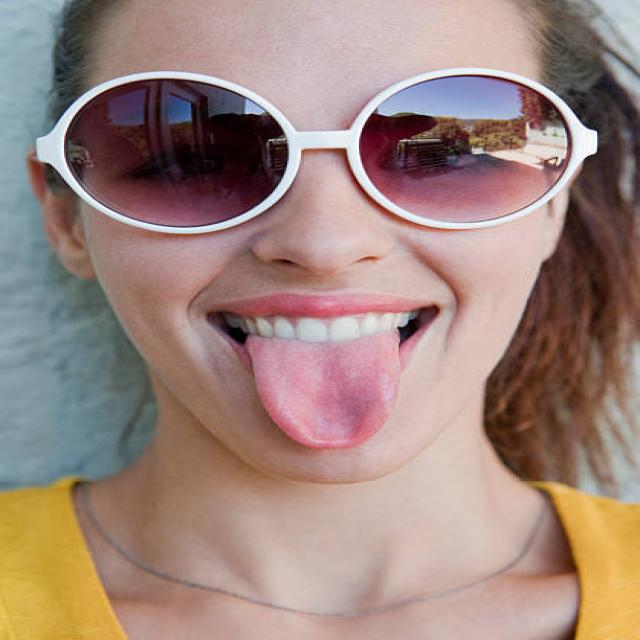tongue: (234, 336, 428, 451)
